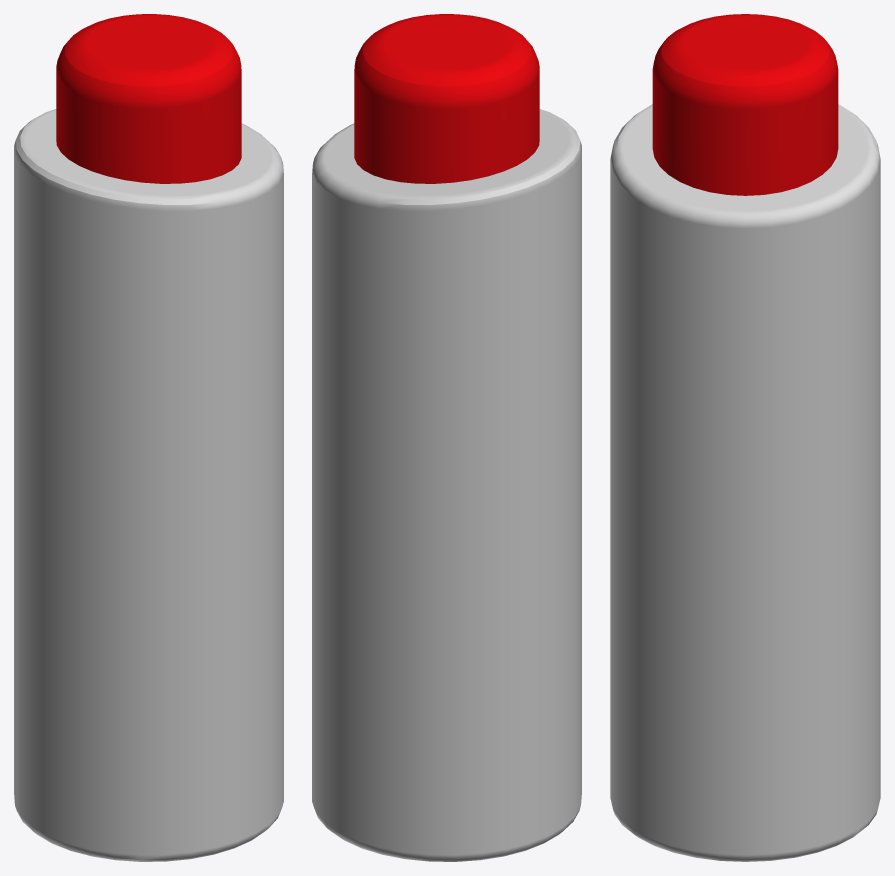
Rendered from button.fbx.
The picture shows the model from 3 angles, left to right: view 1: azimuth 30°, elevation 25°; view 2: azimuth 150°, elevation 25°; view 3: azimuth 270°, elevation 25°; orthographic projection.
Visible parts, largest first — view 1: button; view 2: button; view 3: button.
Boxes of the visible parts, left/top/right/bottom form: button: left=14, top=14, right=283, bottom=861; button: left=312, top=14, right=581, bottom=861; button: left=610, top=14, right=880, bottom=861.
Bounding box in the file's own units: 33.52 × 105 × 33.52.
